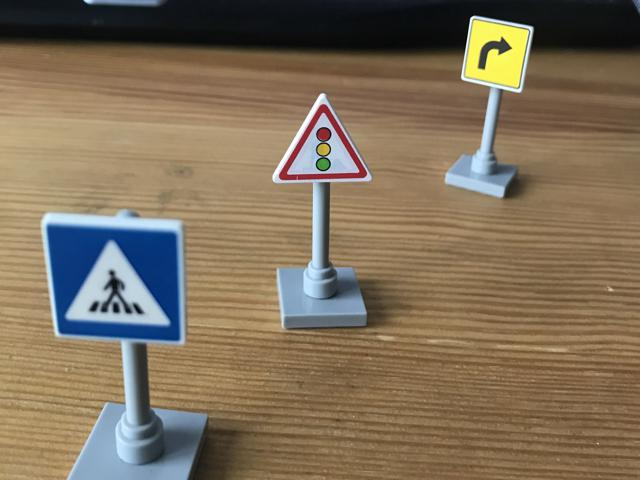fahrtrichtung rechts: (458, 13, 533, 92)
fußgängerüberweg: (41, 211, 186, 344)
lichtzeichenanlage: (271, 90, 375, 184)
